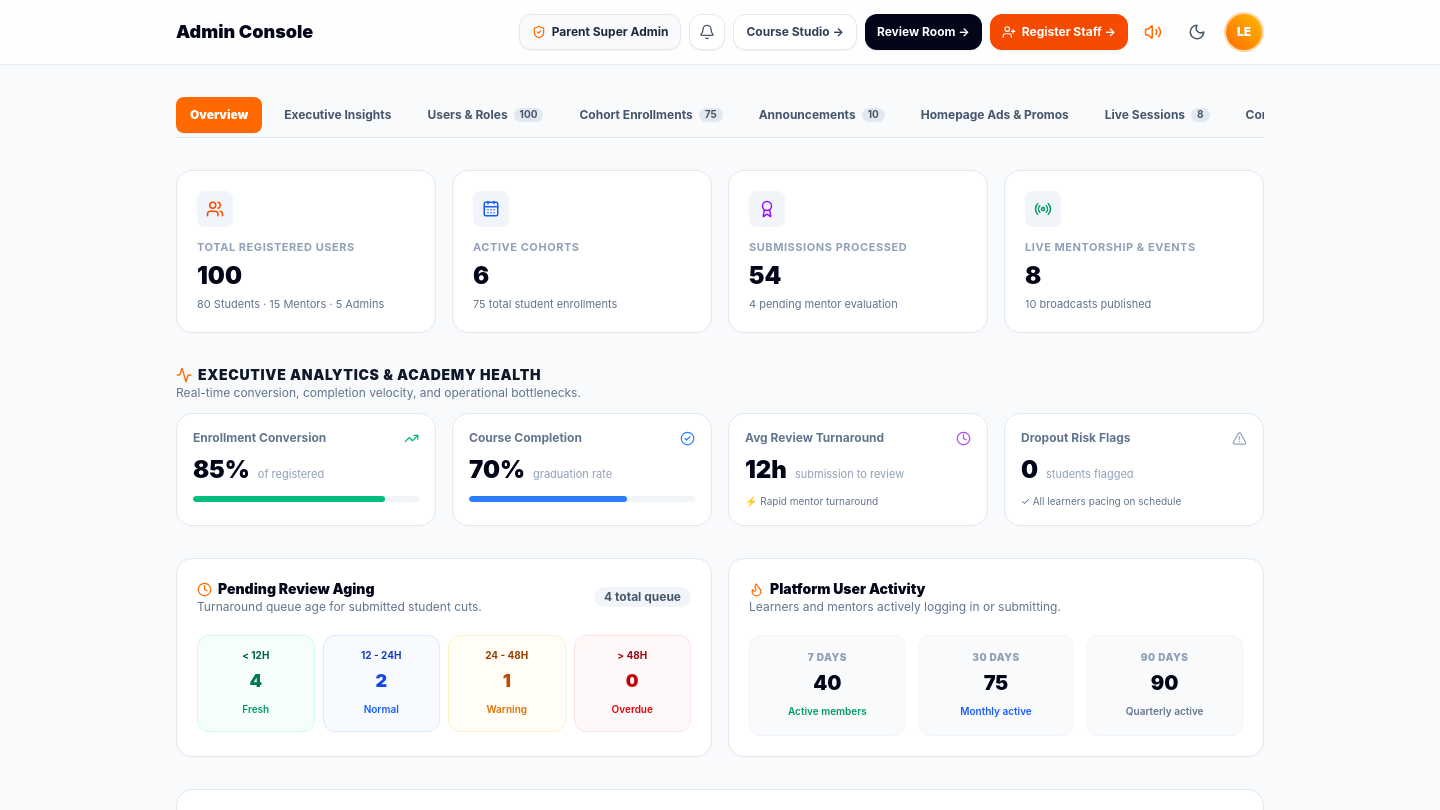
Test: Course Demand & Enrollment Distribution Visual Report UI › sorts courses by least demanded first (Low → High)
Click the button "Executive Insights" at (338, 115), box x1=270 y1=97 x2=405 y2=133
(page scrolled)
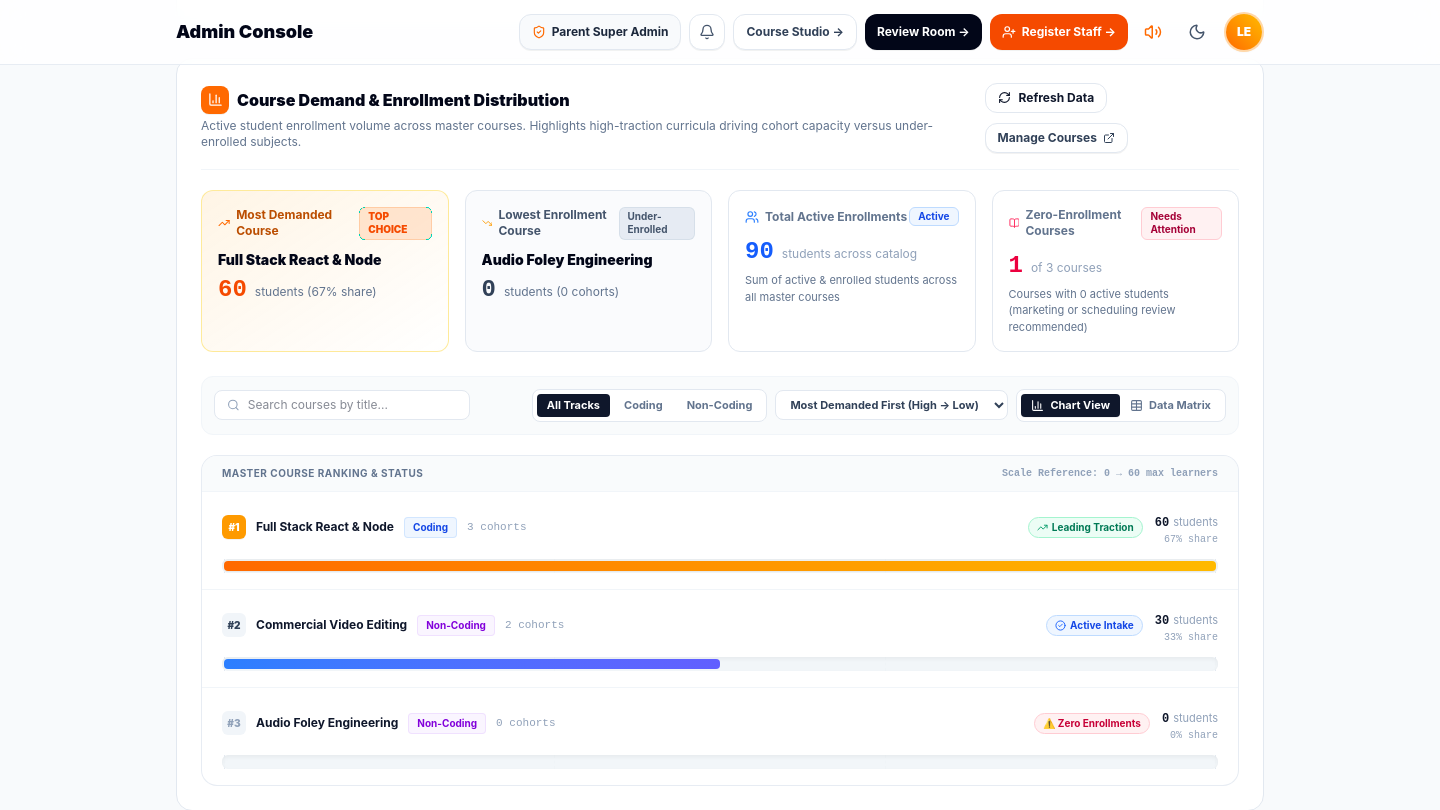
Expected: the heading "Course Demand & Enrollment Distribution" is shown, x1=237 y1=88 x2=570 y2=112
Select "Least Demanded First (Low → High)" in the dropdown named "Sort courses by demand" at (892, 406), box x1=775 y1=390 x2=1008 y2=420
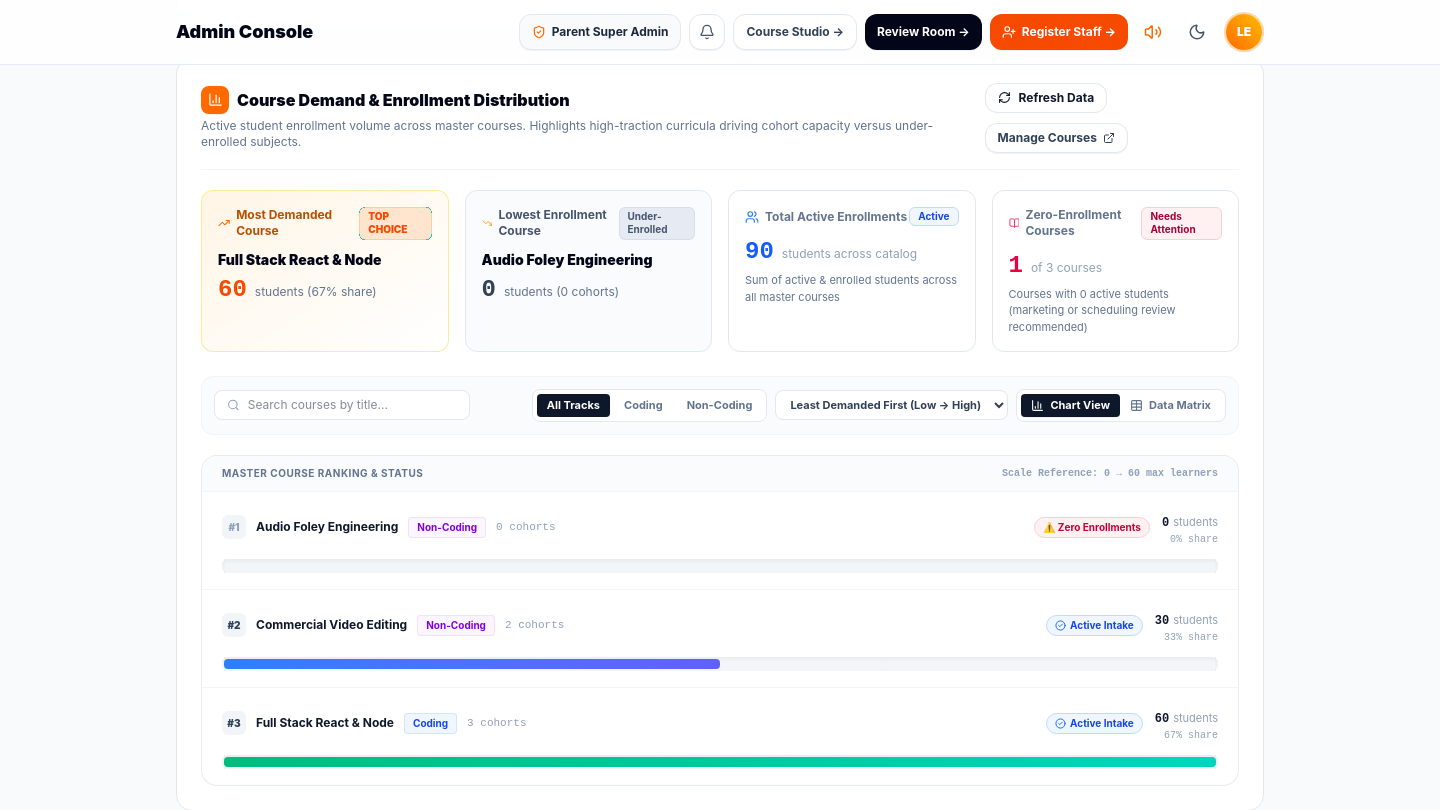
Expected: the text "#1" is shown, x1=222 y1=515 x2=246 y2=539
